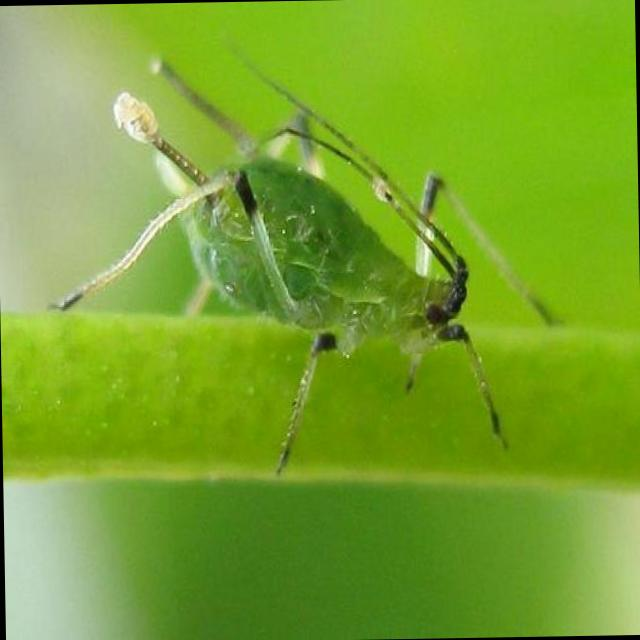aphid: (107, 78, 519, 450)
